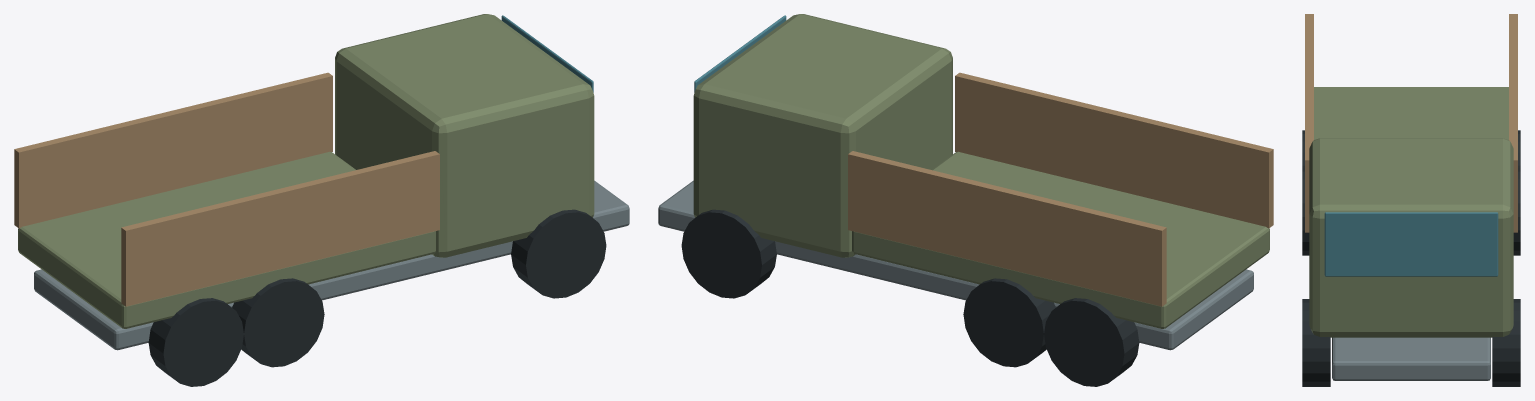
The model's file is cargo_truck.glb.
The picture shows the model from 3 angles, left to right: view 1: azimuth 30°, elevation 25°; view 2: azimuth 150°, elevation 25°; view 3: azimuth 270°, elevation 25°; orthographic projection. The views are drawn at different scales.
Visible parts, largest first — view 1: VisibleGeometry; view 2: VisibleGeometry; view 3: VisibleGeometry.
Boxes of the visible parts, x1,y1,x2,y2 form: VisibleGeometry: (14, 14, 629, 386); VisibleGeometry: (658, 14, 1273, 386); VisibleGeometry: (1302, 14, 1520, 386).
Size of the model in its own units: 6.45 by 2.38 by 2.46.
